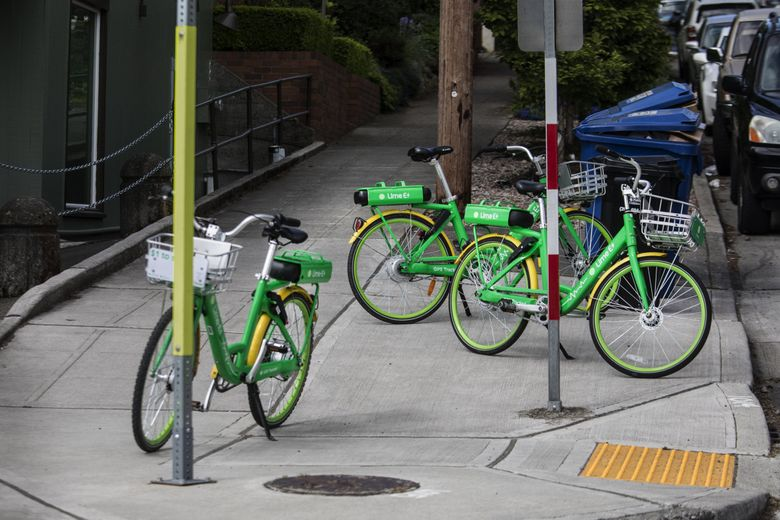bike: (118, 188, 332, 466)
